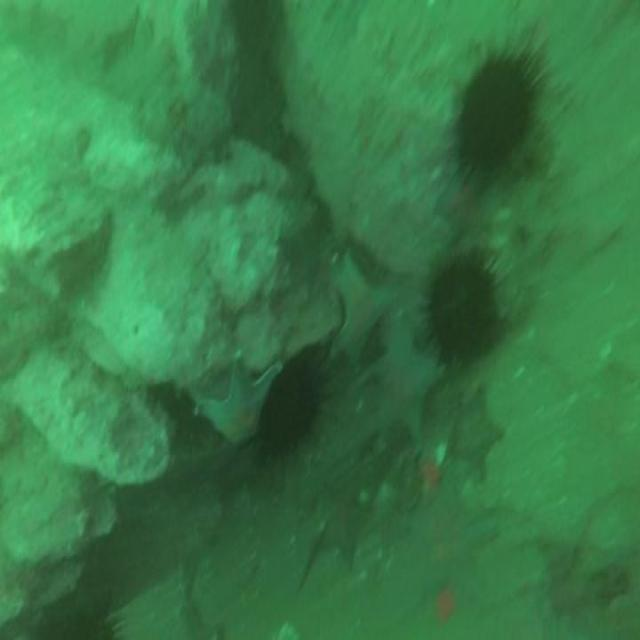scallop: (455, 56, 534, 172), (429, 259, 496, 360), (261, 357, 322, 462), (438, 436, 447, 463)
starfish: (406, 484, 497, 602), (375, 310, 438, 436), (190, 362, 282, 447), (329, 256, 386, 373), (454, 385, 502, 471), (318, 482, 367, 564), (435, 168, 485, 237)
